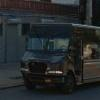Bus: (20, 18, 99, 89)
